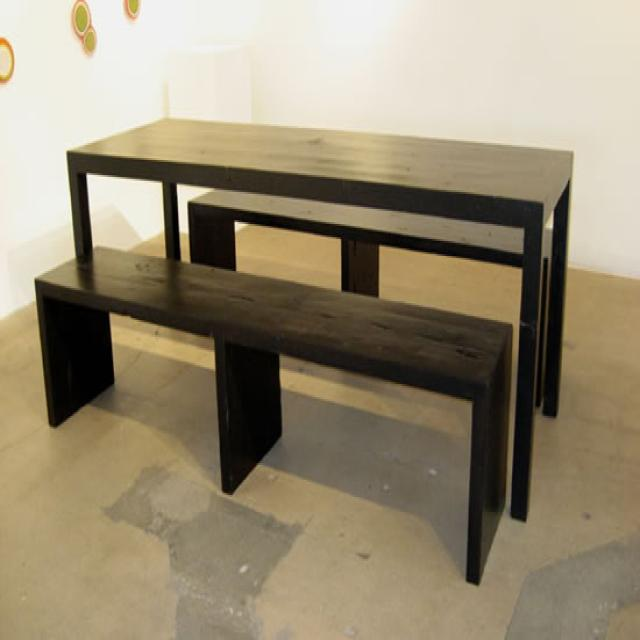table: (64, 115, 574, 521)
